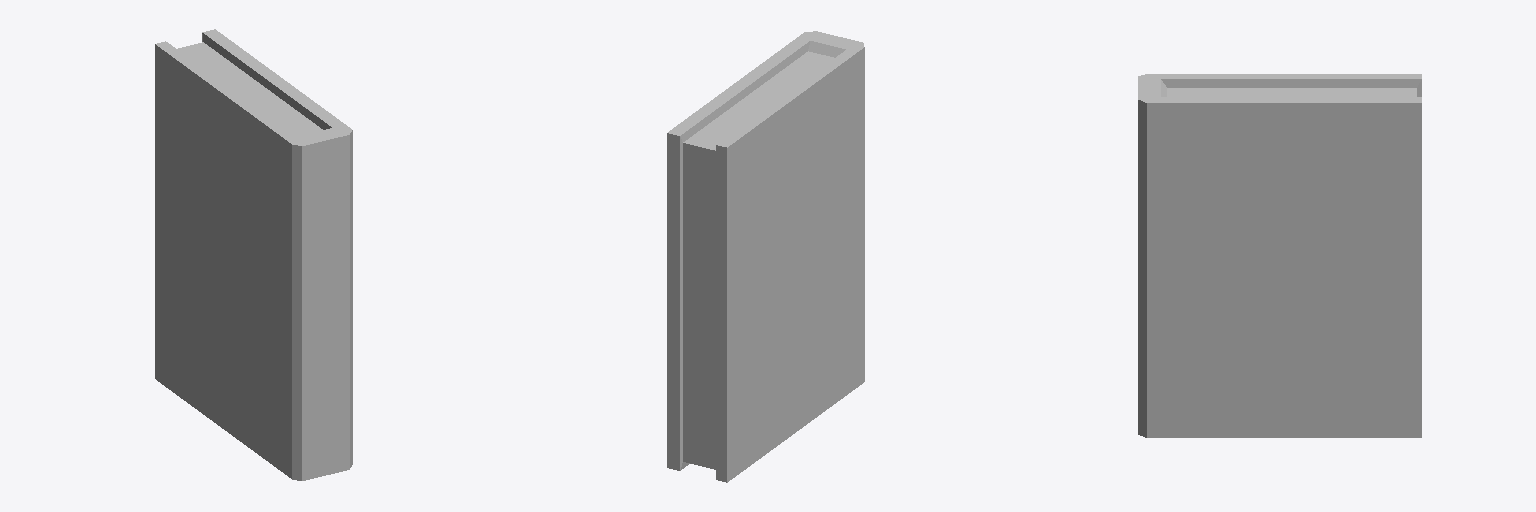
The model's file is BookB.obj.
The picture shows the model from 3 angles: view 1: azimuth 30°, elevation 25°; view 2: azimuth 150°, elevation 25°; view 3: azimuth 270°, elevation 25°; orthographic projection.
Visible parts, largest first — view 1: Book_Cube.005; view 2: Book_Cube.005; view 3: Book_Cube.005.
Part boxes in pixels (x1,y1,x2,y2): Book_Cube.005: (155,29,352,480); Book_Cube.005: (667,31,864,482); Book_Cube.005: (1138,74,1421,437).
Bounding box in the file's own units: 0.235 × 1.24 × 0.9537.